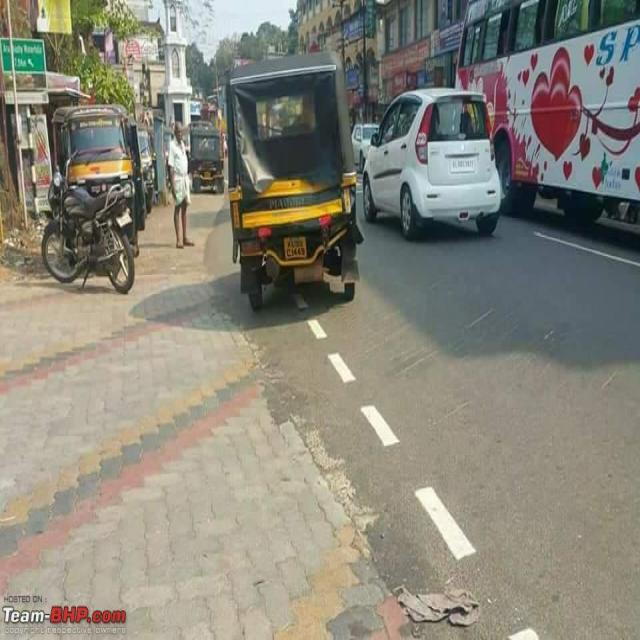autorickshaw: (226, 53, 362, 310), (52, 104, 134, 196), (190, 122, 224, 193)
bus: (455, 0, 640, 222)
car: (362, 89, 500, 237)
motorcycle: (41, 171, 135, 292)
